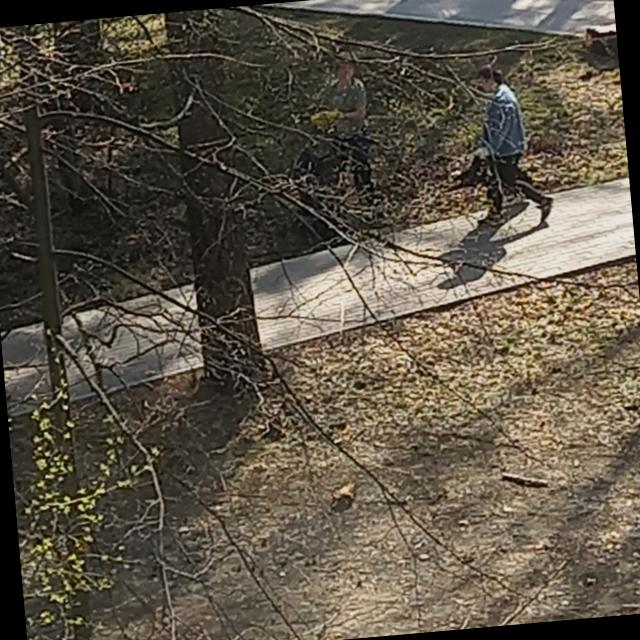person: (458, 55, 556, 228), (303, 51, 379, 204)
